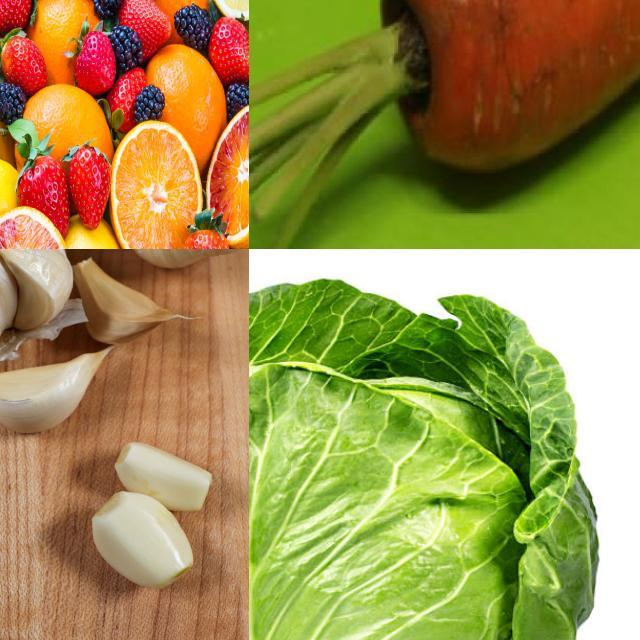cabbage: (250, 281, 600, 640)
carrot: (375, 1, 640, 179)
garlic: (90, 446, 228, 596), (72, 261, 188, 346), (1, 355, 111, 435), (1, 250, 76, 356)
